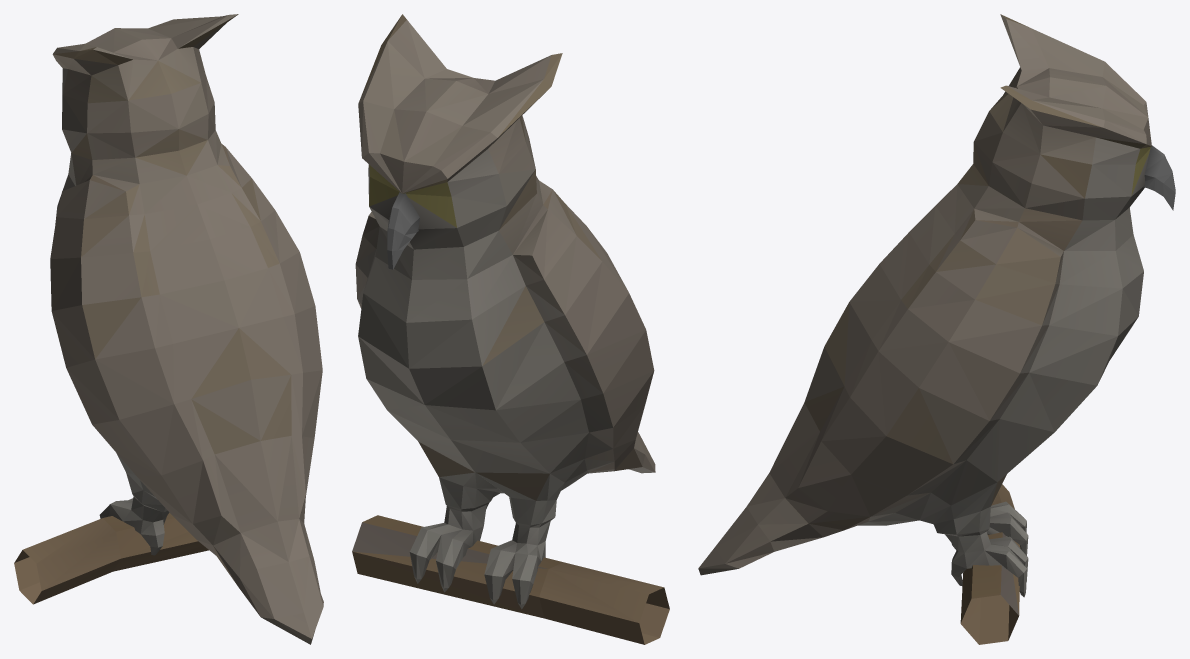
Rendered from linsenuhu.glb.
3 views of the same model, side by side, from view 1: azimuth 30°, elevation 25°; view 2: azimuth 150°, elevation 25°; view 3: azimuth 270°, elevation 25° (orthographic). The views are drawn at different scales.
Visible parts, largest first — view 1: GreatHornedOwl_mesh; view 2: GreatHornedOwl_mesh; view 3: GreatHornedOwl_mesh.
Boxes of the visible parts, <box> form: GreatHornedOwl_mesh: <box>14,14,323,644</box>; GreatHornedOwl_mesh: <box>352,14,669,644</box>; GreatHornedOwl_mesh: <box>698,14,1175,644</box>.
Bounding box in the file's own units: 0.5234 × 1.02 × 0.8115.
